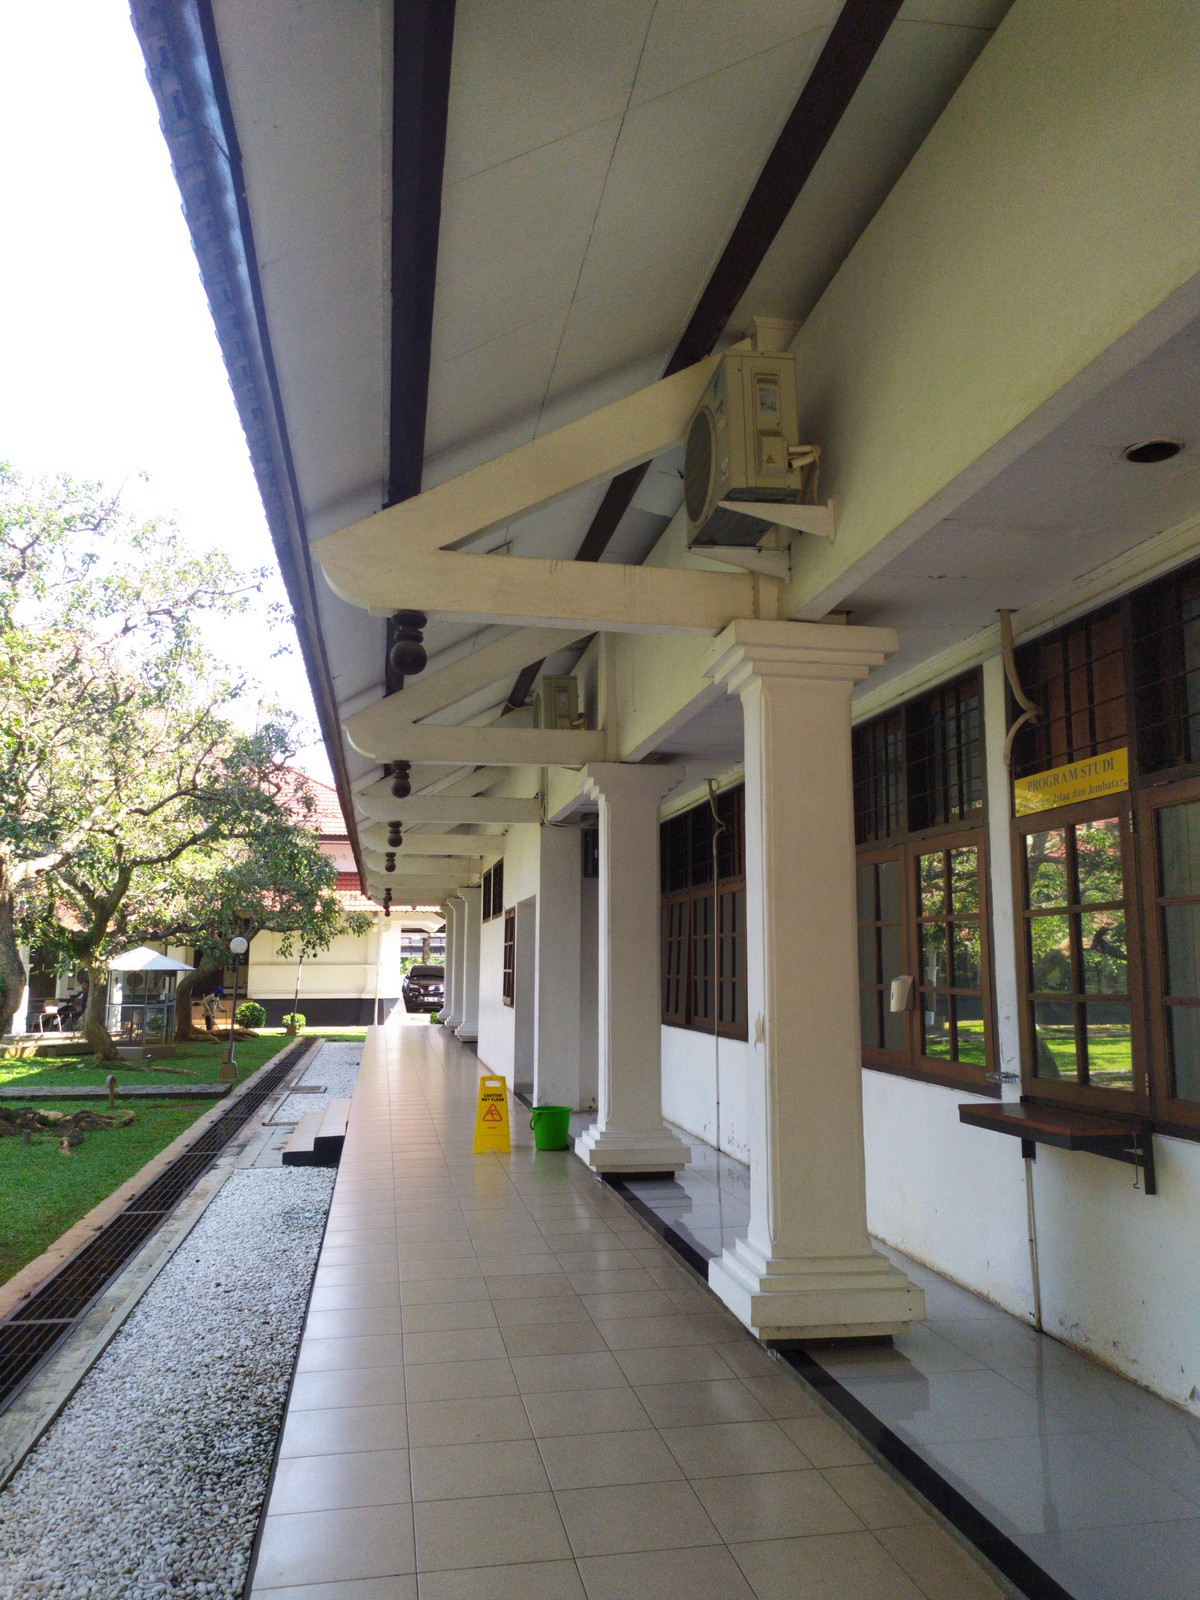concrete beam: (427, 551, 761, 648), (427, 724, 608, 774)
concrete column: (732, 674, 875, 1259), (591, 792, 668, 1131)
